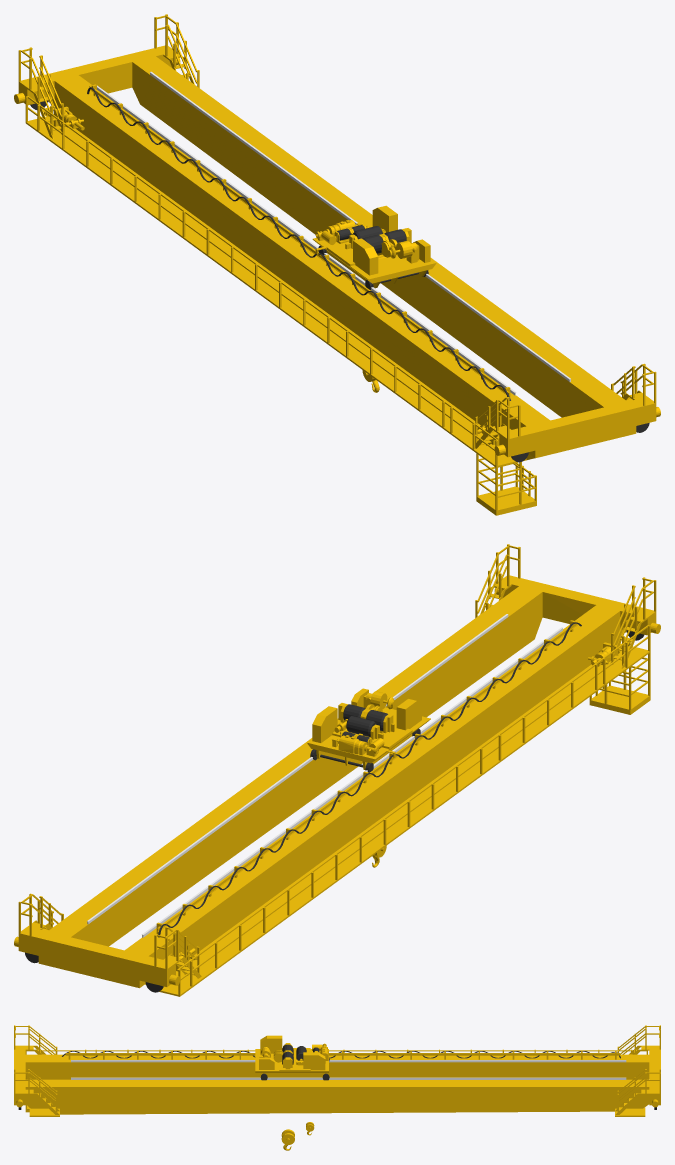
3 renders of one model, top to bottom at view 1: azimuth 30°, elevation 25°; view 2: azimuth 150°, elevation 25°; view 3: azimuth 270°, elevation 25°, orthographic. The views are drawn at different scales.
Parts seen in each view (by area): view 1: 1_Bay_C_865_Body; view 2: 1_Bay_C_865_Body; view 3: 1_Bay_C_865_Body, 1_Bay_C_865_Body_Head_01.
Part boxes in pixels (bbox=[...]): 1_Bay_C_865_Body: bbox=[14, 14, 660, 515]; 1_Bay_C_865_Body: bbox=[14, 544, 660, 996]; 1_Bay_C_865_Body: bbox=[14, 1025, 660, 1116]; 1_Bay_C_865_Body_Head_01: bbox=[281, 1122, 314, 1150].
Size of the model in its own units: 7.46 by 7.11 by 39.13.
